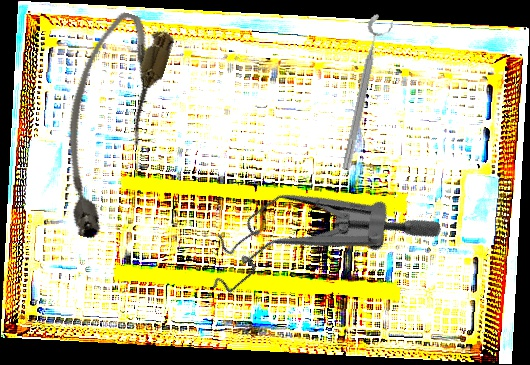Cannula: (33, 5, 179, 245)
Fixation Ring: (337, 12, 396, 174)
Speculum: (188, 125, 446, 361)
